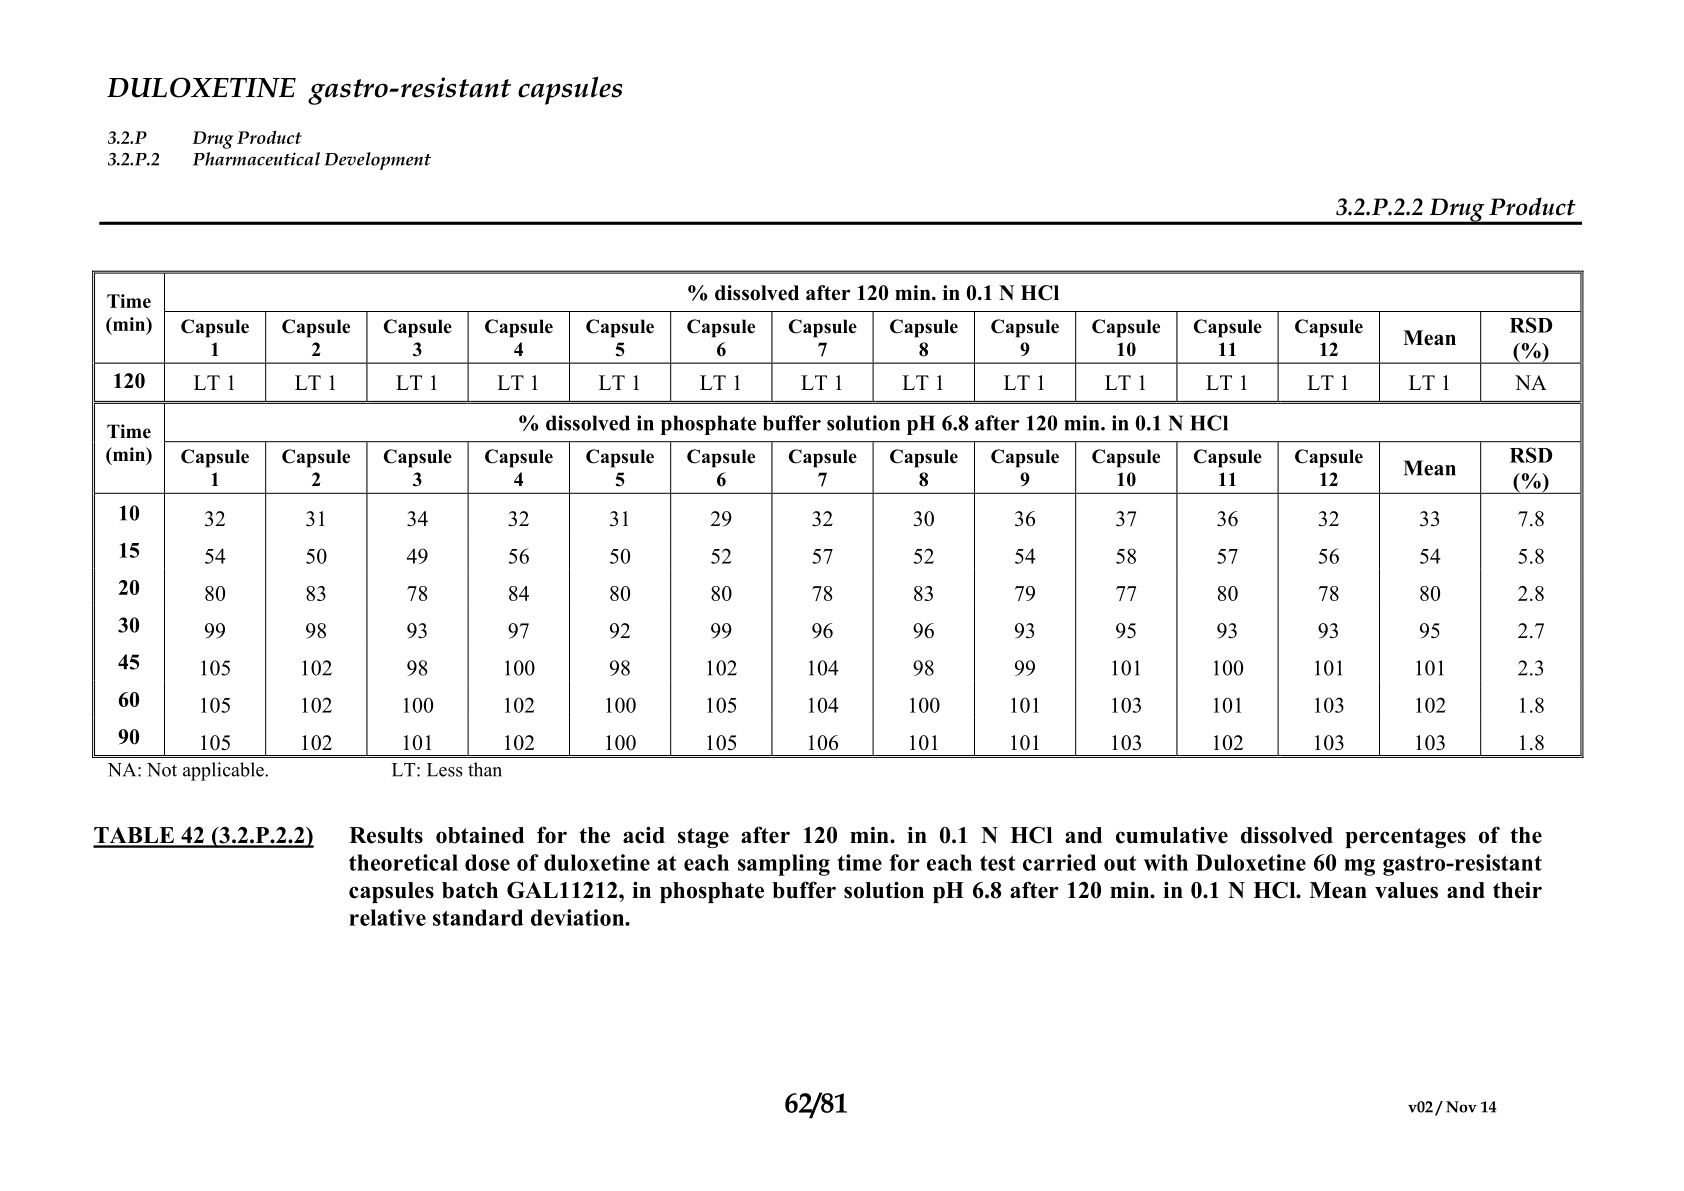merged_cells: (90, 268, 1585, 759)
